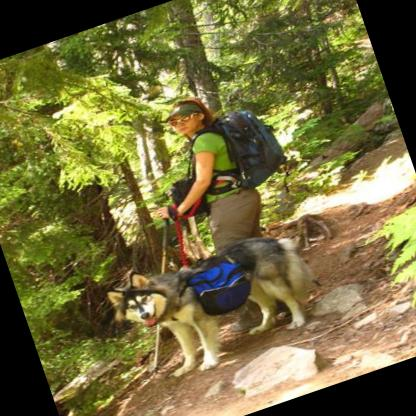malamute: (97, 215, 331, 396)
